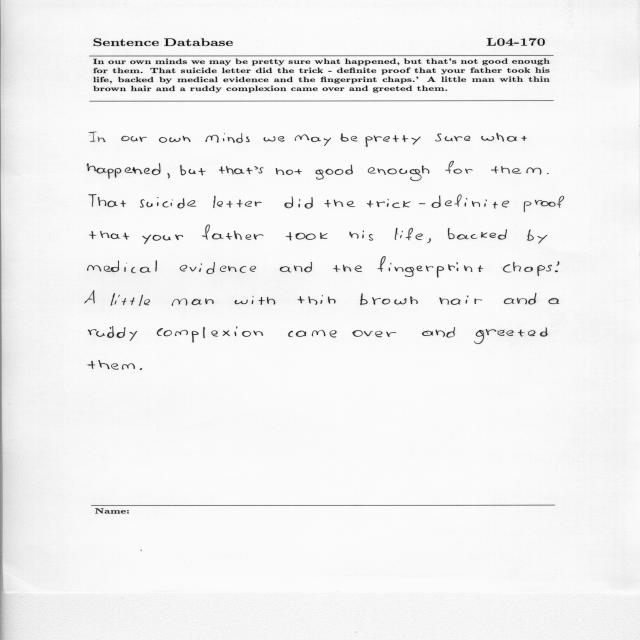word: (378, 257, 484, 278), (157, 326, 263, 343), (474, 328, 548, 345), (87, 163, 161, 179), (432, 194, 509, 209), (368, 166, 429, 181), (202, 225, 263, 240), (180, 262, 256, 274), (87, 261, 157, 274), (88, 326, 137, 341), (501, 262, 552, 276), (360, 294, 418, 306), (366, 135, 421, 147), (448, 228, 507, 239), (524, 196, 564, 212), (140, 197, 196, 208), (213, 196, 262, 208), (315, 165, 353, 180), (110, 293, 150, 306), (89, 195, 126, 208), (88, 360, 135, 370), (491, 166, 541, 175), (206, 133, 250, 143), (295, 134, 331, 146), (440, 295, 483, 305), (367, 199, 411, 208), (298, 295, 336, 305), (286, 232, 328, 241), (143, 235, 184, 244), (235, 296, 276, 305), (481, 133, 527, 141), (445, 161, 473, 174), (422, 327, 455, 338), (90, 231, 130, 240), (504, 293, 536, 304), (284, 197, 313, 209), (288, 330, 337, 337), (395, 228, 423, 240), (172, 298, 214, 306), (280, 262, 312, 272), (352, 330, 396, 337), (435, 134, 470, 142), (527, 230, 547, 244), (219, 166, 253, 174), (350, 230, 374, 241), (180, 165, 206, 175), (324, 200, 355, 208), (159, 136, 191, 143), (333, 265, 362, 272), (276, 168, 302, 175), (89, 132, 106, 142), (121, 136, 147, 142), (340, 134, 358, 142), (85, 291, 95, 304), (264, 136, 285, 142), (548, 298, 560, 304), (255, 167, 264, 174), (427, 238, 431, 243), (167, 173, 170, 178), (557, 261, 560, 266), (419, 203, 425, 204), (555, 270, 558, 272), (139, 368, 142, 370), (547, 173, 549, 174)
